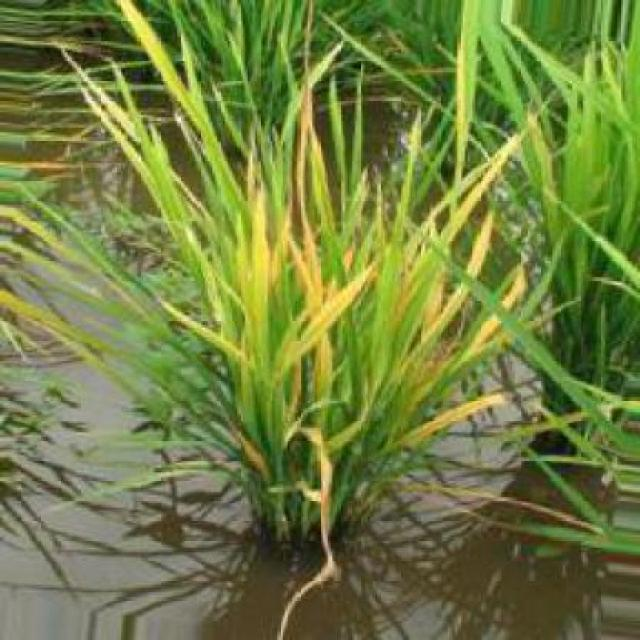Rice Tungro: (257, 236, 392, 396), (125, 2, 218, 161), (282, 425, 350, 638), (425, 280, 528, 405), (425, 196, 512, 333), (433, 128, 518, 248), (405, 380, 510, 445), (155, 298, 250, 362), (250, 168, 275, 272)
